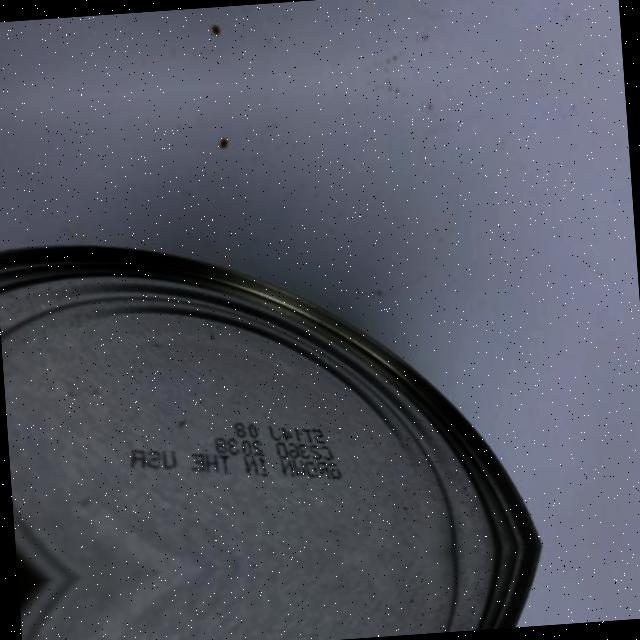Metal: (0, 185, 583, 582), (17, 542, 588, 640)
